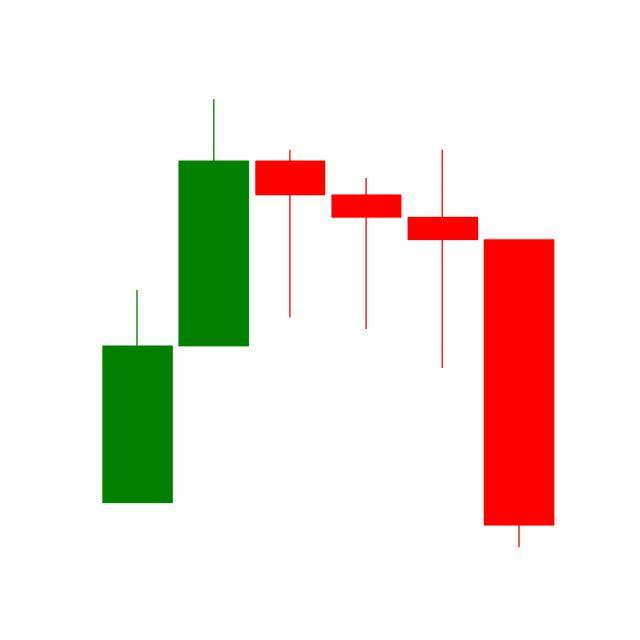Spinning Top: (404, 148, 482, 372)
